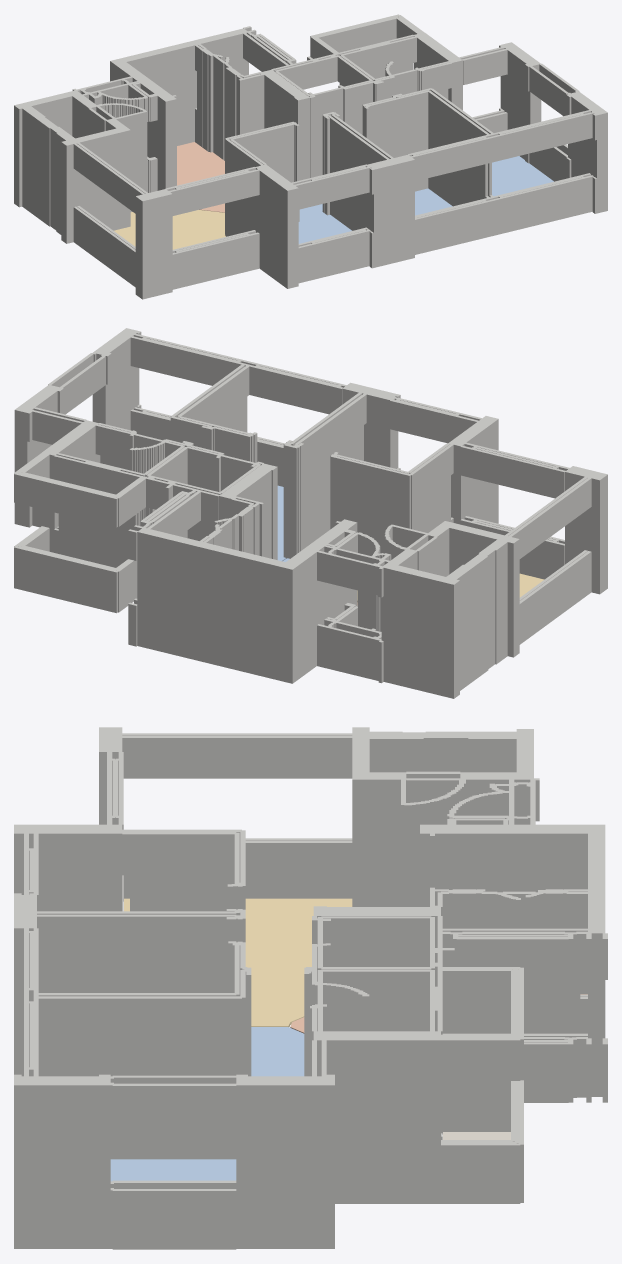
3 views of the same model, one above another, from view 1: azimuth 30°, elevation 25°; view 2: azimuth 150°, elevation 25°; view 3: azimuth 270°, elevation 25° (orthographic). The views are drawn at different scales.
Visible parts, largest first — view 1: walls, room:living:3, room:kitchen:11, room:bedroom:0, room:bedroom:2, room:bedroom:1; view 2: walls, room:bedroom:1; view 3: walls, room:living:3, room:bedroom:0, room:bedroom:2.
Boxes of the visible parts, box(x1,y1,x2,y2) form: walls: box(14, 14, 607, 299); room:living:3: box(114, 210, 225, 249); room:kitchen:11: box(177, 142, 224, 212); room:bedroom:0: box(492, 156, 553, 196); room:bedroom:2: box(298, 204, 351, 243); room:bedroom:1: box(415, 188, 452, 215); walls: box(14, 328, 607, 698); room:bedroom:1: box(277, 485, 285, 561); walls: box(14, 727, 607, 1249); room:living:3: box(124, 898, 352, 1026); room:bedroom:0: box(110, 1159, 236, 1181); room:bedroom:2: box(251, 1027, 304, 1076).
Bounding box in the file's own units: 13.15 × 2.8 × 9.21.
